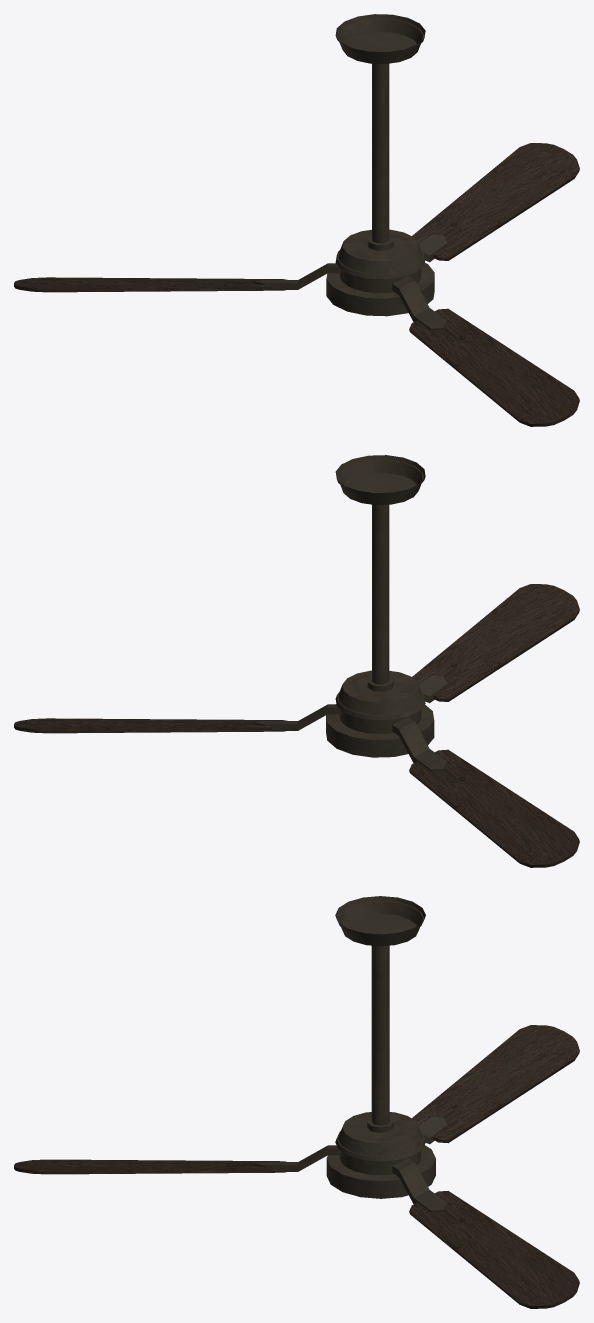
Rendered from ceiling_fan_mp_1.glb.
3 renders of one model, top to bottom at view 1: azimuth 30°, elevation 25°; view 2: azimuth 150°, elevation 25°; view 3: azimuth 270°, elevation 25°, orthographic.
Parts seen in each view (by area): view 1: ceiling_fan_mp_1_blades, ceiling_fan_mp_1; view 2: ceiling_fan_mp_1_blades, ceiling_fan_mp_1; view 3: ceiling_fan_mp_1_blades, ceiling_fan_mp_1.
Part boxes in pixels (x1,y1,x2,y2): ceiling_fan_mp_1_blades: [14, 143, 579, 426]; ceiling_fan_mp_1: [326, 14, 434, 316]; ceiling_fan_mp_1_blades: [14, 584, 579, 867]; ceiling_fan_mp_1: [326, 455, 434, 757]; ceiling_fan_mp_1_blades: [14, 1025, 579, 1308]; ceiling_fan_mp_1: [326, 896, 435, 1198].
Size of the model in its own units: 1.06 by 0.4915 by 0.9279.
Materials: 2 (2 with a texture image).
